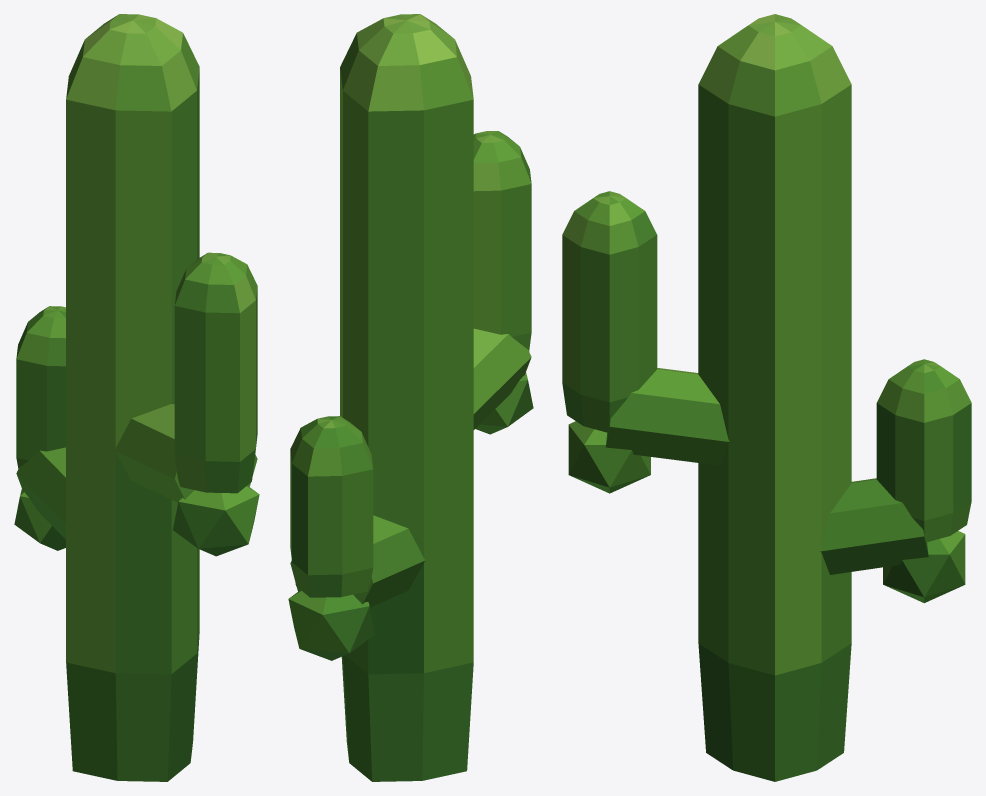
File: SM_CACTUS_TALL_02.fbx
3 renders of one model, left to right at view 1: azimuth 30°, elevation 25°; view 2: azimuth 150°, elevation 25°; view 3: azimuth 270°, elevation 25°, orthographic.
Visible parts, largest first — view 1: CACTUS_TALL_02; view 2: CACTUS_TALL_02; view 3: CACTUS_TALL_02.
Part boxes in pixels (box(x1,y1,x2,y2)): CACTUS_TALL_02: box(14, 14, 259, 781); CACTUS_TALL_02: box(288, 14, 533, 781); CACTUS_TALL_02: box(562, 14, 971, 781).
Bounding box in the file's own units: 0.38 × 1.02 × 2.
